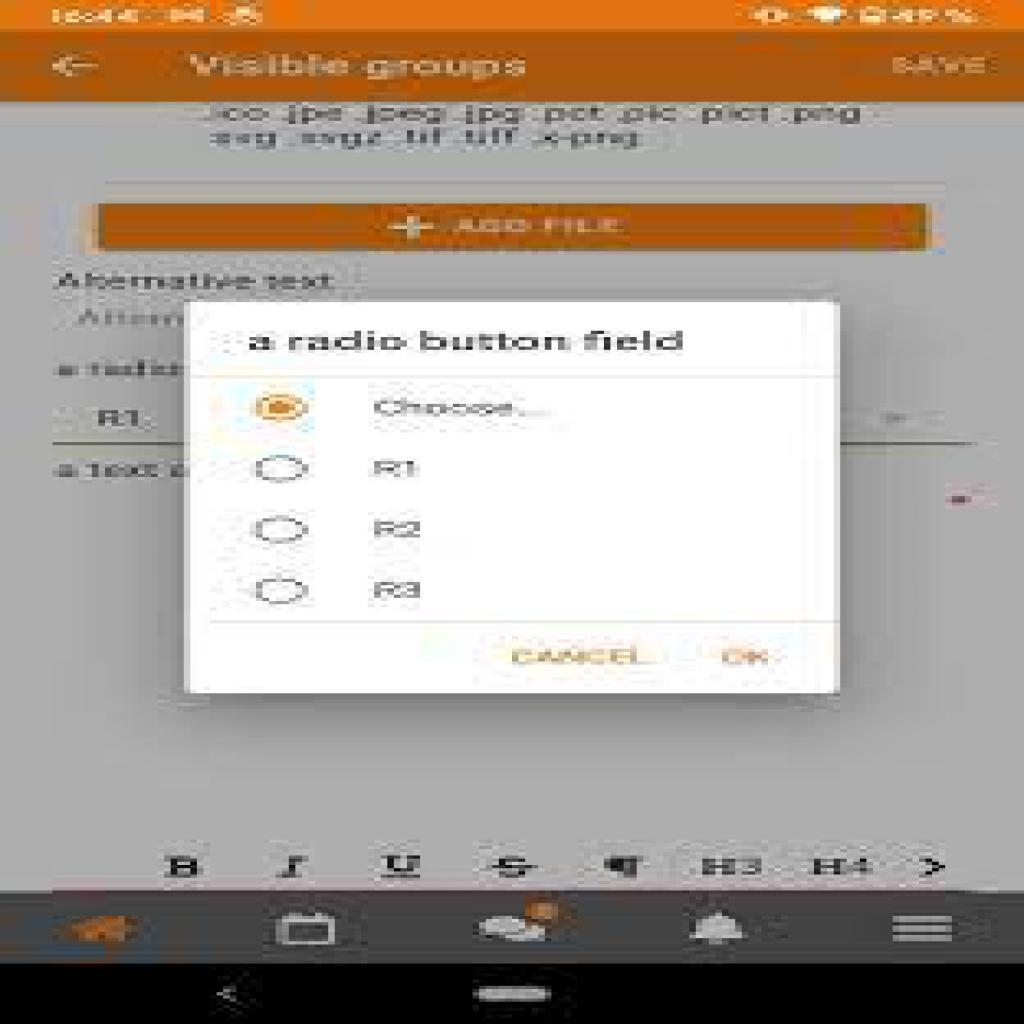button: (100, 201, 934, 252)
icon: (477, 907, 561, 957), (885, 907, 966, 954), (64, 907, 140, 950), (685, 905, 747, 953), (272, 911, 341, 954), (54, 52, 99, 82)
label: (187, 51, 535, 85), (371, 394, 528, 422), (508, 647, 655, 671), (892, 52, 996, 83), (371, 511, 426, 546), (367, 455, 428, 485), (371, 577, 427, 608), (721, 647, 774, 674)
radio: (249, 511, 312, 552), (249, 573, 315, 610), (251, 451, 311, 488), (247, 392, 313, 425)
